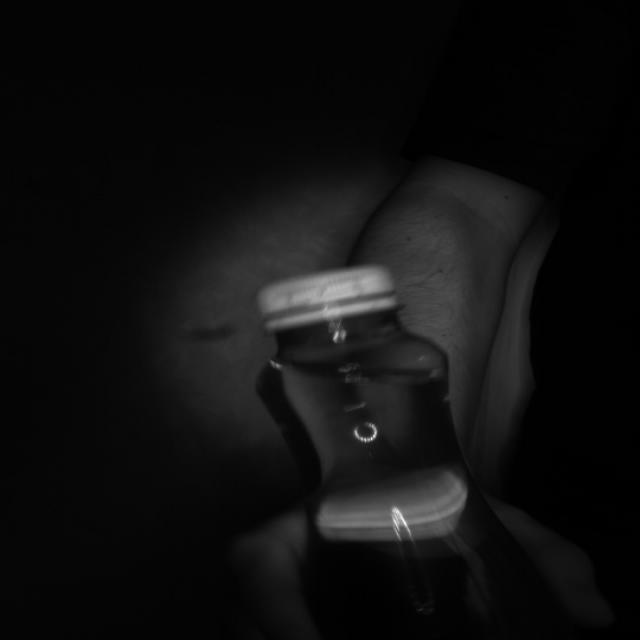Not Good: (256, 266, 400, 326)
